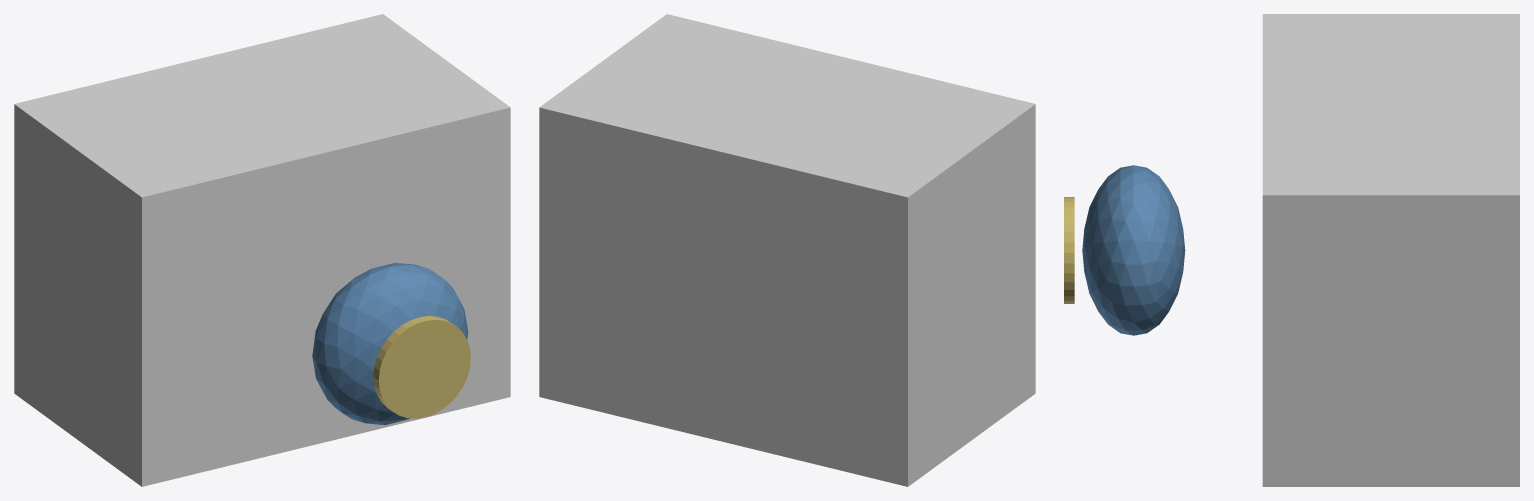
Rendered from building-bank-refined.glb.
3 views of the same model, side by side, from view 1: azimuth 30°, elevation 25°; view 2: azimuth 150°, elevation 25°; view 3: azimuth 270°, elevation 25° (orthographic).
Parts seen in each view (by area): view 1: world; view 2: world; view 3: world.
Boxes of the visible parts, box(x1,y1,x2,y2) form: world: box(14, 14, 510, 486); world: box(539, 14, 1035, 486); world: box(1064, 14, 1519, 486).
Bounding box in the file's own units: 20 × 15 × 21.25.
